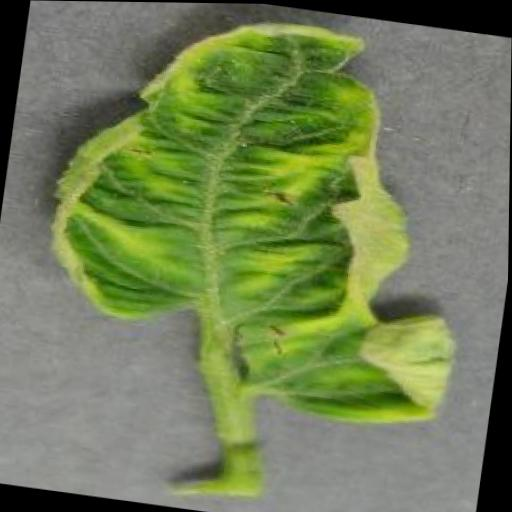Yellow Leaf Curl Virus: (29, 0, 497, 433)
